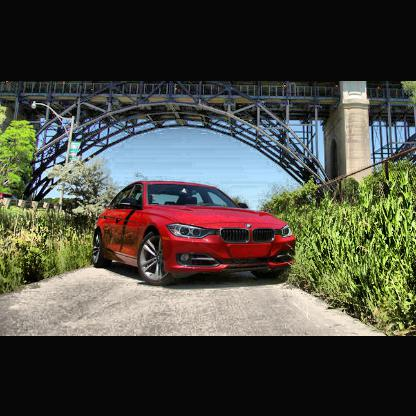BMW 3 Series Sedan 2012: (91, 176, 306, 295)
